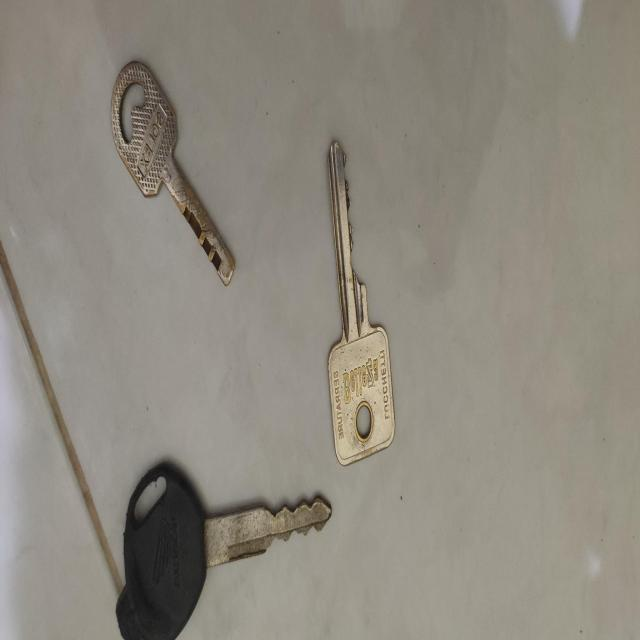kunci_kos: (322, 128, 397, 478)
kunci_motor: (112, 454, 333, 639)
kunci_pagar: (107, 42, 240, 301)
